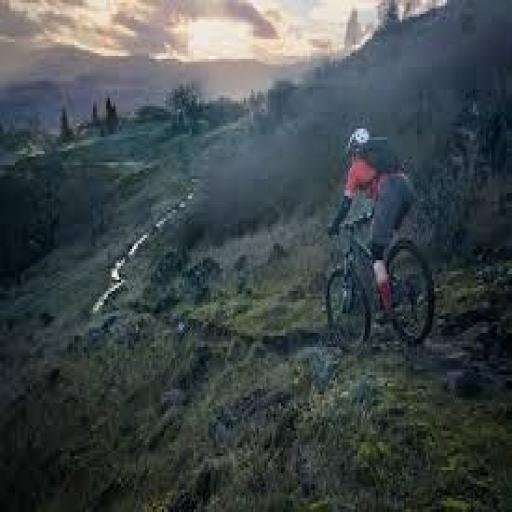cycling: (326, 123, 419, 325)
